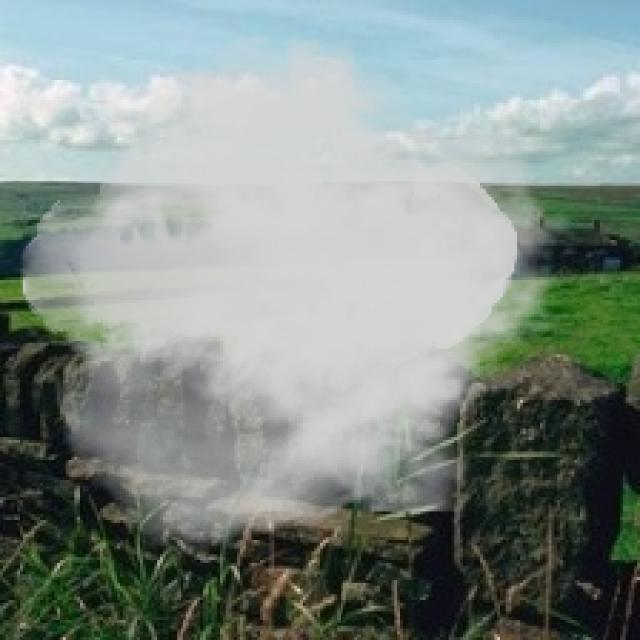smoke: (20, 29, 574, 557)
